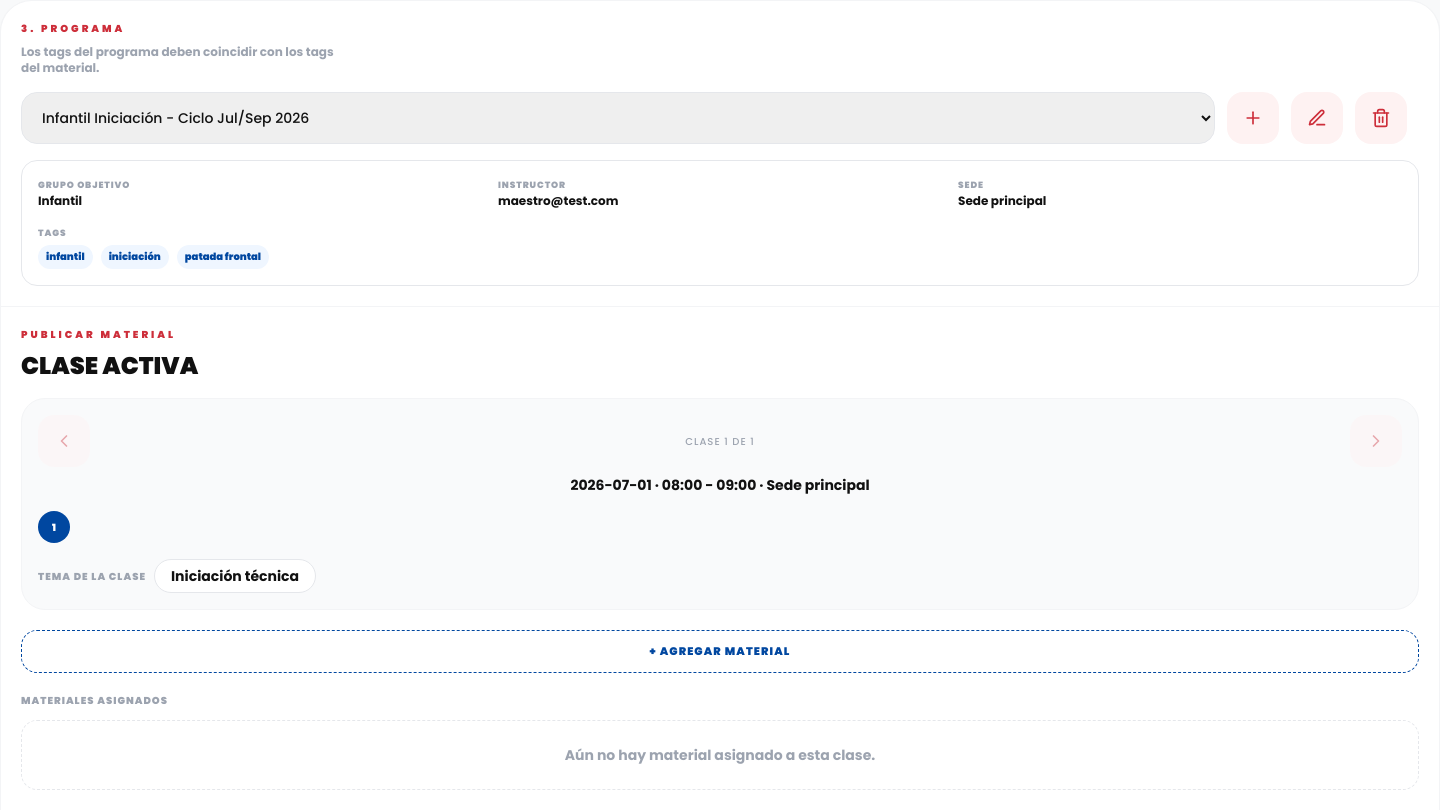
Test: Programa academico: crear, validar y editar › renderiza el modal de Programa con los campos contractuales
Click the button named "editar programa" at (1317, 118), box [1291,92,1343,144]
(page scrolled)
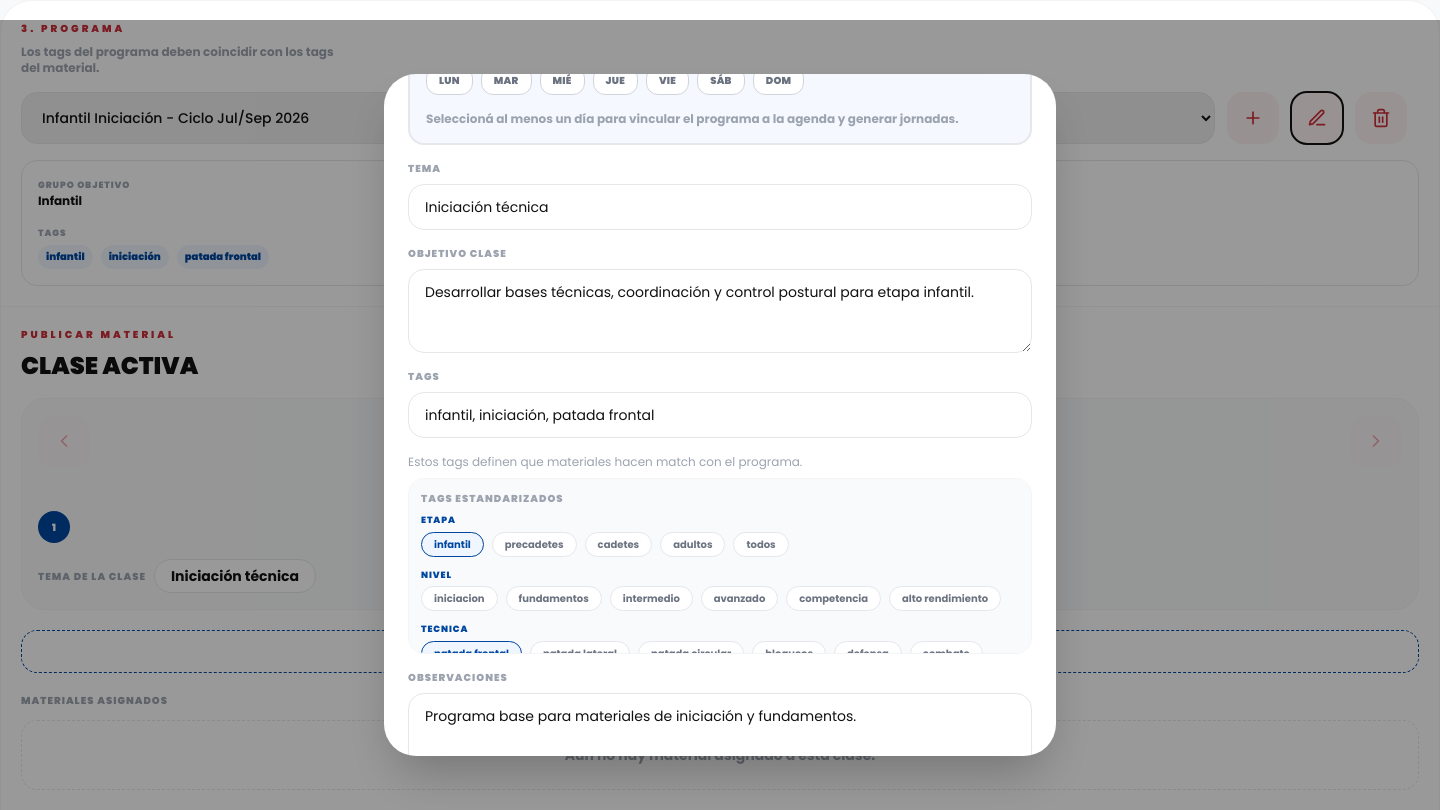
expect the field labelled "Tema" is shown: met, box [408,184,1032,230]
expect the field labelled "Tags" is shown: met, box [408,392,1032,438]
